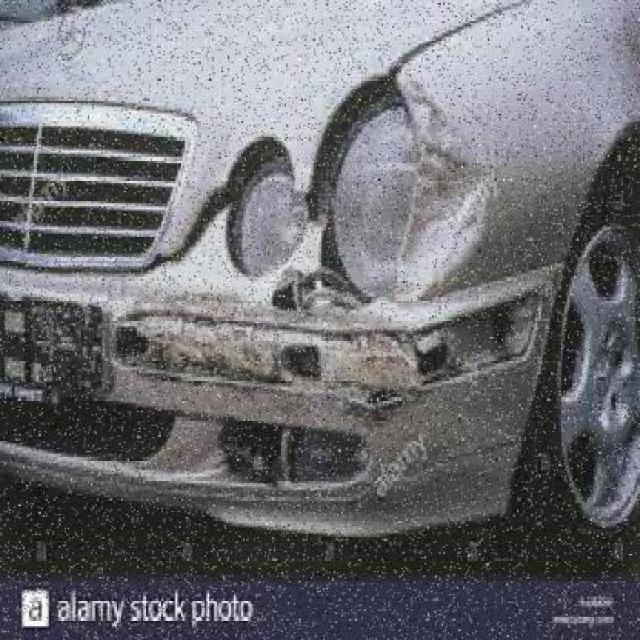fender-dent: (399, 6, 638, 293)
front-bumper-dent: (0, 280, 560, 540)
